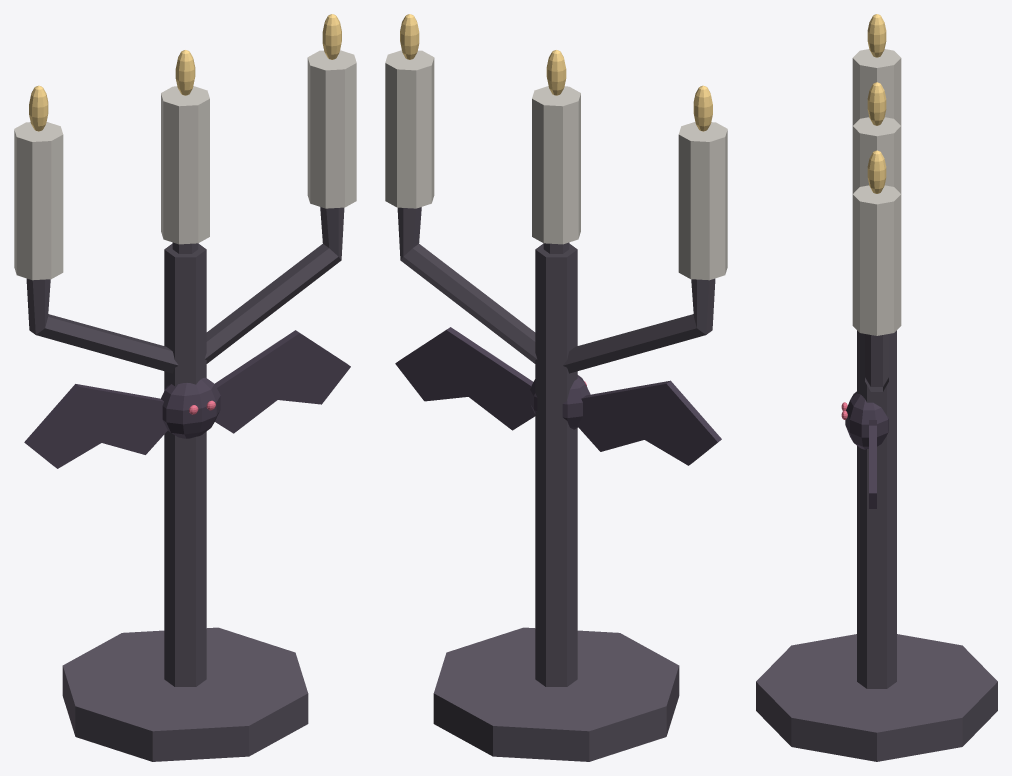
File: BatCandelabra.fbx
3 views of the same model, side by side, from view 1: azimuth 30°, elevation 25°; view 2: azimuth 150°, elevation 25°; view 3: azimuth 270°, elevation 25° (orthographic). The views are drawn at different scales.
Visible parts, largest first — view 1: Prop_BatCandelabra; view 2: Prop_BatCandelabra; view 3: Prop_BatCandelabra.
Boxes of the visible parts, bbox=[...] form: Prop_BatCandelabra: bbox=[14, 14, 356, 761]; Prop_BatCandelabra: bbox=[385, 14, 727, 761]; Prop_BatCandelabra: bbox=[756, 14, 997, 761].
Size of the model in its own units: 0.46 by 0.86 by 0.3.
